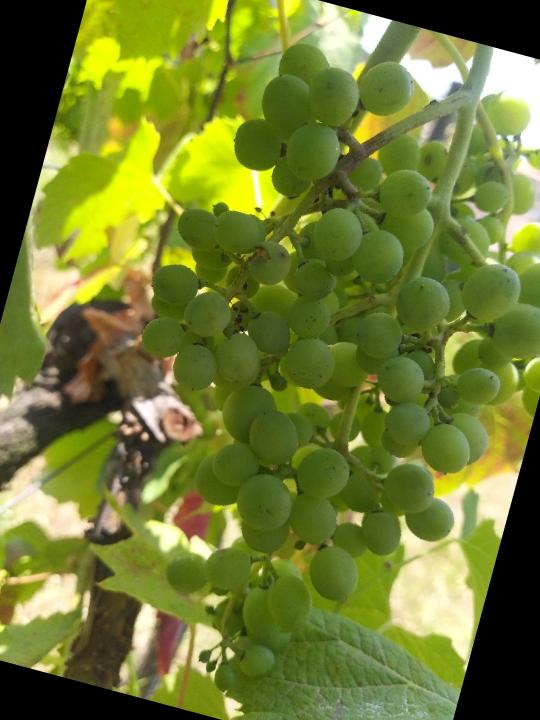grape: (50, 13, 540, 720)
